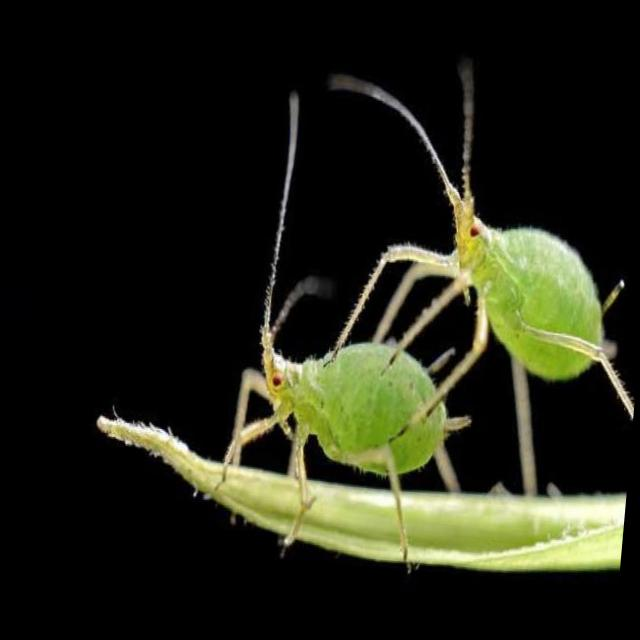aphid: (302, 70, 640, 430), (184, 280, 472, 522)
